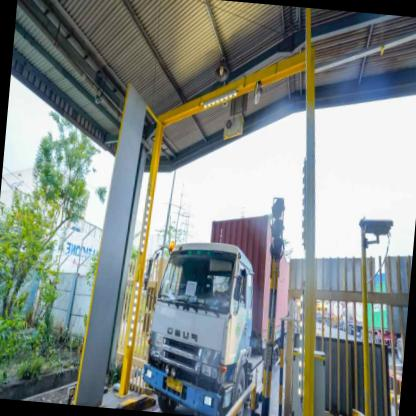truck: (140, 238, 261, 416)
